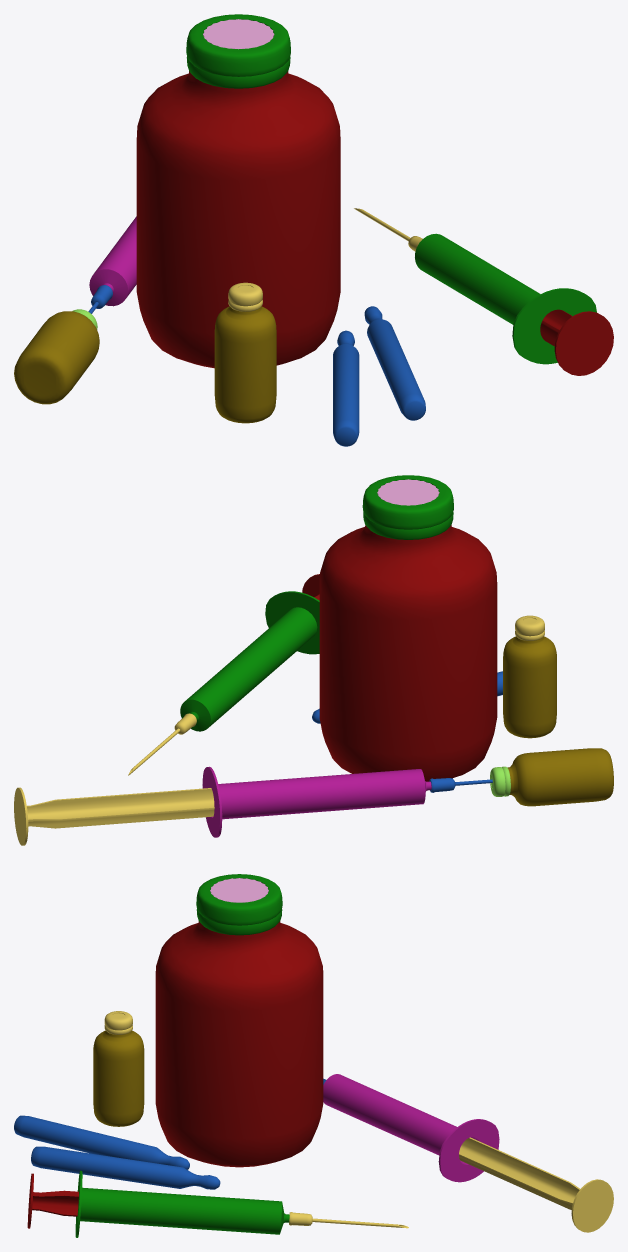
The picture shows the model from 3 angles, top to bottom: view 1: azimuth 30°, elevation 25°; view 2: azimuth 150°, elevation 25°; view 3: azimuth 270°, elevation 25°; orthographic projection. The views are drawn at different scales.
Parts seen in each view (by area): view 1: bottle_001, injection_void_001, potion_002, potion_001, bigcup_001, piston_002, ampulle_002, ampulle_001, injection_void_002, seal_locked_001, hcup_002; view 2: bottle_001, injection_void_002, injection_void_001, piston_001, potion_001, potion_002, bigcup_001, seal_locked_001, hcup_002, hcup_001, needle_002; view 3: bottle_001, injection_void_001, injection_void_002, piston_001, potion_002, ampulle_002, bigcup_001, ampulle_001, piston_002, seal_locked_001, needle_002, hcup_002.
Part boxes in pixels (left/top/right/bottom): bottle_001: left=136, top=71, right=340, bottom=368; injection_void_001: left=415, top=233, right=596, bottom=364; potion_002: left=214, top=306, right=276, bottom=423; potion_001: left=14, top=311, right=99, bottom=404; bigcup_001: left=186, top=14, right=290, bottom=88; piston_002: left=540, top=309, right=613, bottom=375; ampulle_002: left=364, top=306, right=425, bottom=420; ampulle_001: left=333, top=330, right=359, bottom=446; injection_void_002: left=89, top=216, right=136, bottom=306; seal_locked_001: left=203, top=19, right=274, bottom=49; hcup_002: left=228, top=282, right=262, bottom=311; bottle_001: left=319, top=525, right=497, bottom=781; injection_void_002: left=202, top=766, right=431, bottom=837; injection_void_001: left=180, top=591, right=319, bottom=731; piston_001: left=14, top=787, right=214, bottom=845; potion_001: left=507, top=748, right=613, bottom=806; potion_002: left=503, top=636, right=556, bottom=738; bigcup_001: left=362, top=475, right=453, bottom=539; seal_locked_001: left=377, top=479, right=439, bottom=505; hcup_002: left=515, top=615, right=544, bottom=640; hcup_001: left=490, top=766, right=510, bottom=796; needle_002: left=128, top=713, right=196, bottom=775; bottle_001: left=155, top=921, right=323, bottom=1167; injection_void_001: left=75, top=1170, right=289, bottom=1237; injection_void_002: left=323, top=1074, right=499, bottom=1182; piston_001: left=459, top=1137, right=613, bottom=1232; potion_002: left=93, top=1030, right=144, bottom=1126; ampulle_002: left=31, top=1146, right=220, bottom=1189; bigcup_001: left=196, top=874, right=282, bottom=935; ampulle_001: left=14, top=1115, right=189, bottom=1169; piston_002: left=27, top=1173, right=78, bottom=1228; seal_locked_001: left=210, top=878, right=268, bottom=902; needle_002: left=289, top=1212, right=408, bottom=1228; hcup_002: left=104, top=1011, right=132, bottom=1034.
Size of the model in its own units: 8.73 by 5.27 by 11.24.
